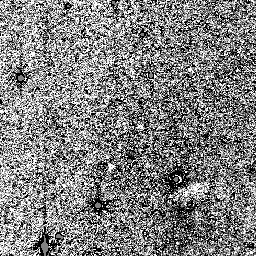LE: (167, 181, 204, 197)
